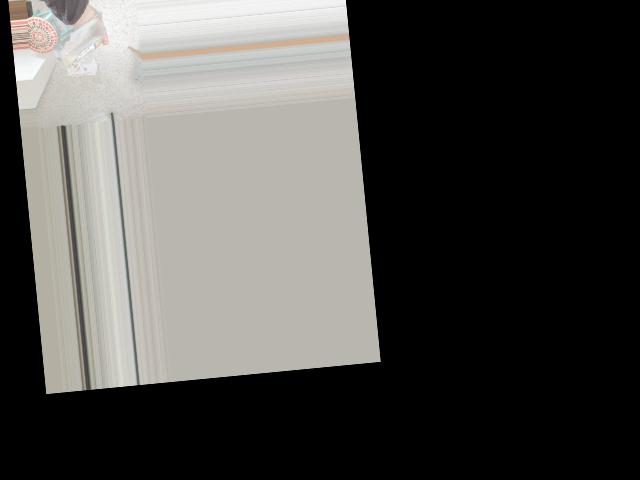cheese: (33, 6, 115, 86)
